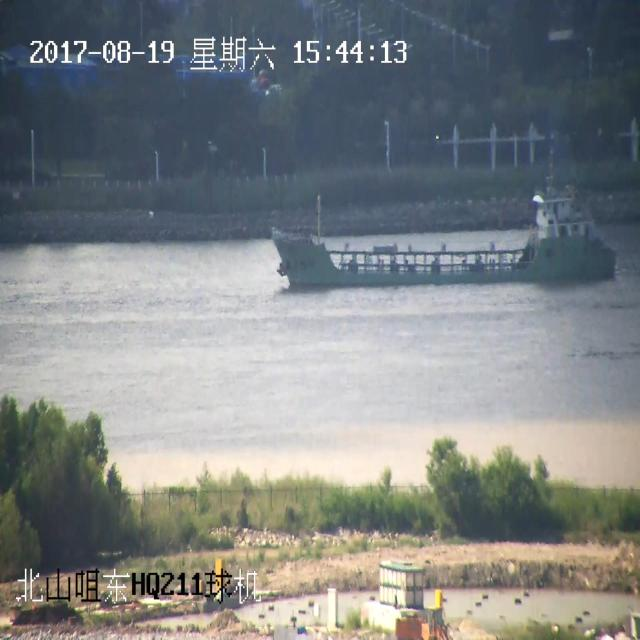houseboat: (249, 190, 629, 318)
